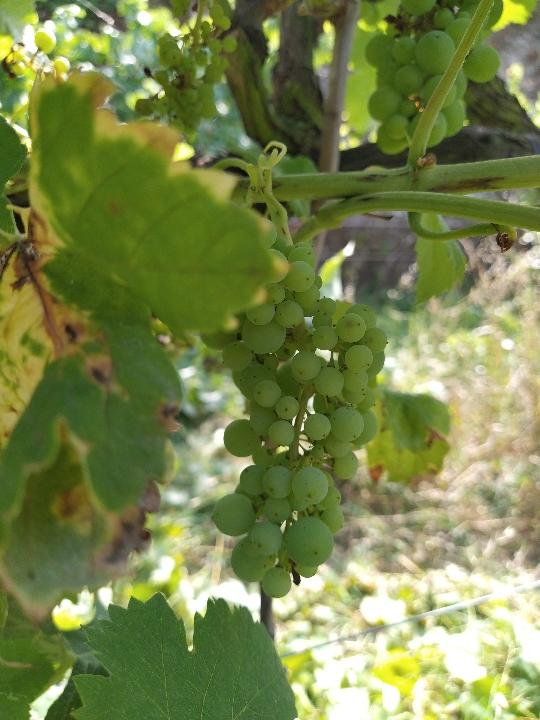grape: (209, 231, 394, 603)
